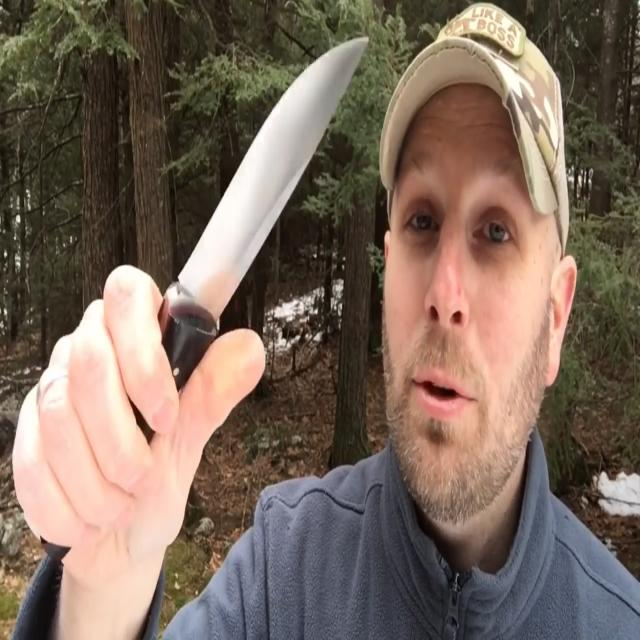knife: (158, 35, 374, 380)
